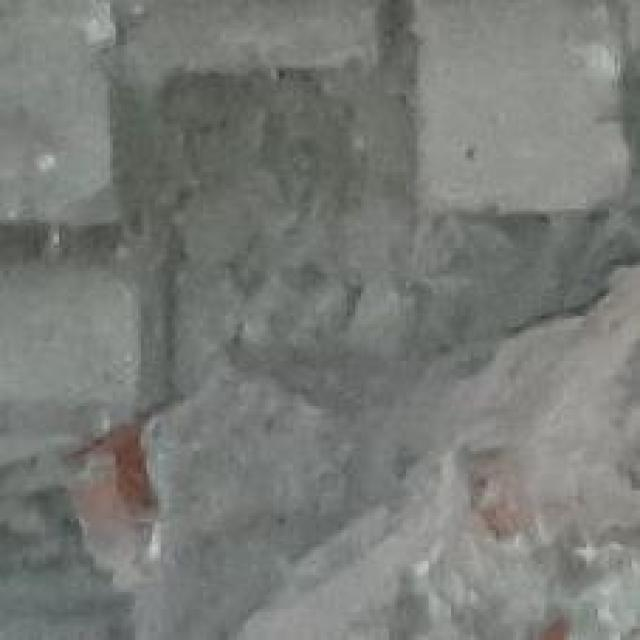Crack: (21, 248, 640, 640)
